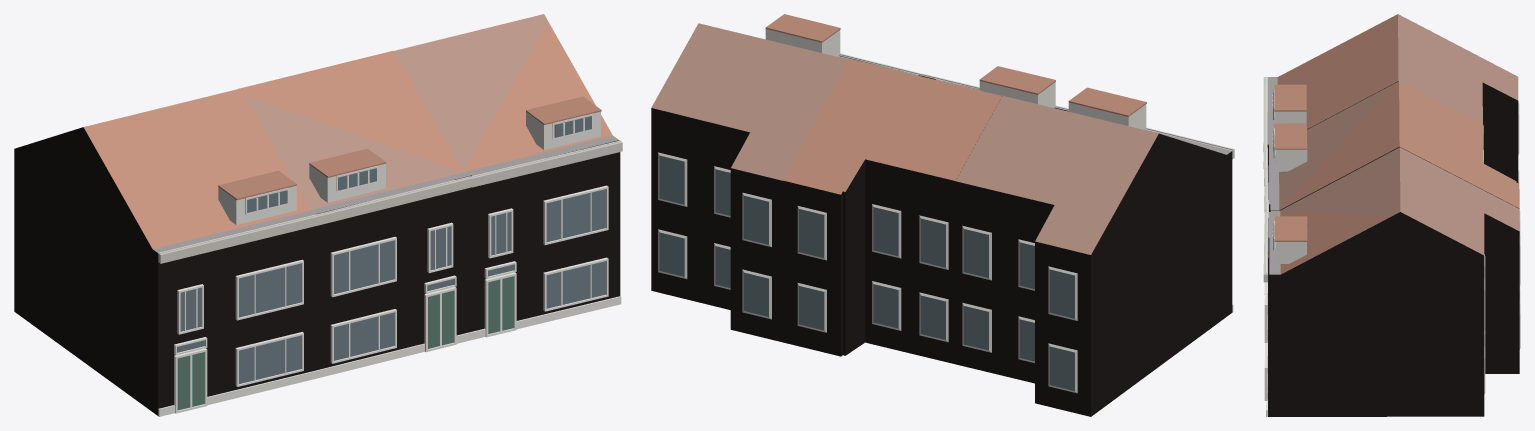
Rendered from chunk-face-meeuwenplein-9-19-r1.glb.
The picture shows the model from 3 angles, left to right: view 1: azimuth 30°, elevation 25°; view 2: azimuth 150°, elevation 25°; view 3: azimuth 270°, elevation 25°; orthographic projection. The views are drawn at different scales.
Parts seen in each view (by area): view 1: face-meeuwenplein-9-19-r1; view 2: face-meeuwenplein-9-19-r1; view 3: face-meeuwenplein-9-19-r1.
Part boxes in pixels (<box>): face-meeuwenplein-9-19-r1: <box>14,14,622,416</box>; face-meeuwenplein-9-19-r1: <box>651,14,1234,416</box>; face-meeuwenplein-9-19-r1: <box>1263,14,1520,416</box>.
Bounding box in the file's own units: 19.24 × 9.33 × 10.57.
